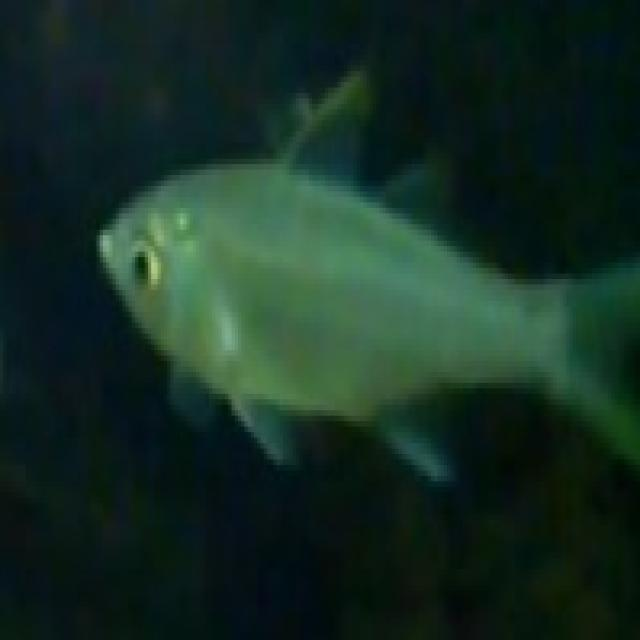Glass-Perchlet: (75, 34, 640, 573)
